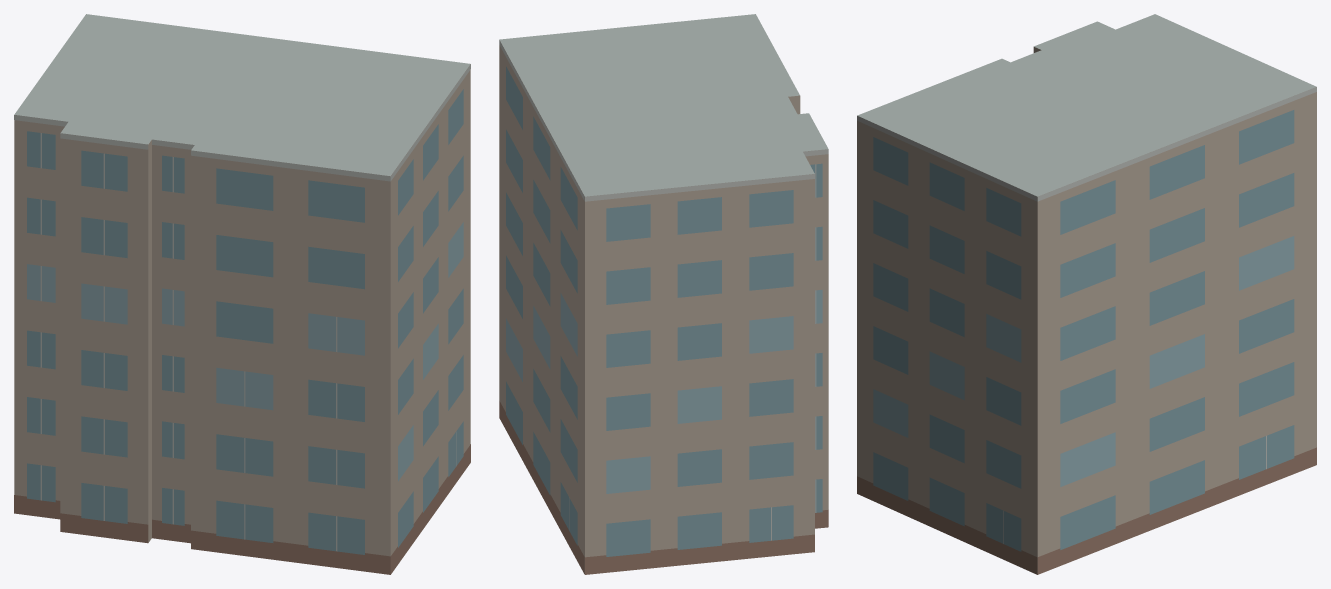
Rendered from survey-upis-32684471.glb.
3 views of the same model, side by side, from view 1: azimuth 30°, elevation 25°; view 2: azimuth 150°, elevation 25°; view 3: azimuth 270°, elevation 25° (orthographic). The views are drawn at different scales.
Parts seen in each view (by area): view 1: survey-upis-32684471.tmp; view 2: survey-upis-32684471.tmp; view 3: survey-upis-32684471.tmp.
Part boxes in pixels (x1=…): survey-upis-32684471.tmp: x1=14, y1=14, x2=470, y2=574; survey-upis-32684471.tmp: x1=499, y1=14, x2=828, y2=574; survey-upis-32684471.tmp: x1=857, y1=14, x2=1316, y2=574.
Bounding box in the file's own units: 18.97 × 18.3 × 20.17.
